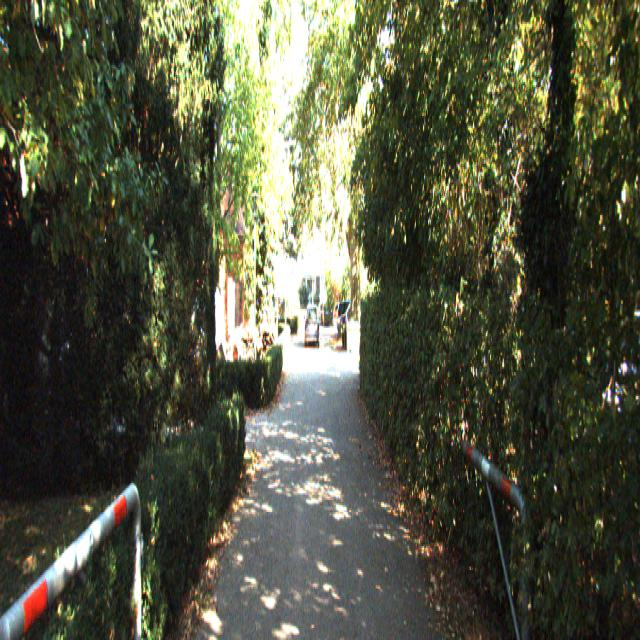Car: (305, 305, 321, 349)
